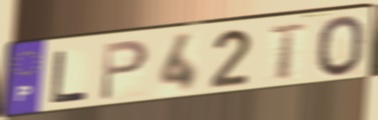2: (208, 26, 256, 92)
4: (156, 30, 200, 97)
L: (49, 48, 91, 106)
O: (316, 14, 368, 80)
P: (98, 38, 152, 104)
T: (266, 22, 310, 82)
